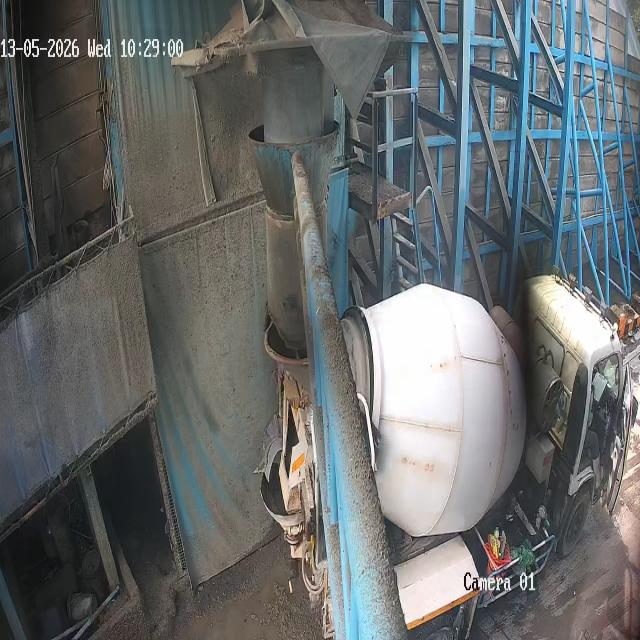cement_mixer_truck: (264, 272, 639, 639)
swing_chute: (249, 121, 344, 340)
